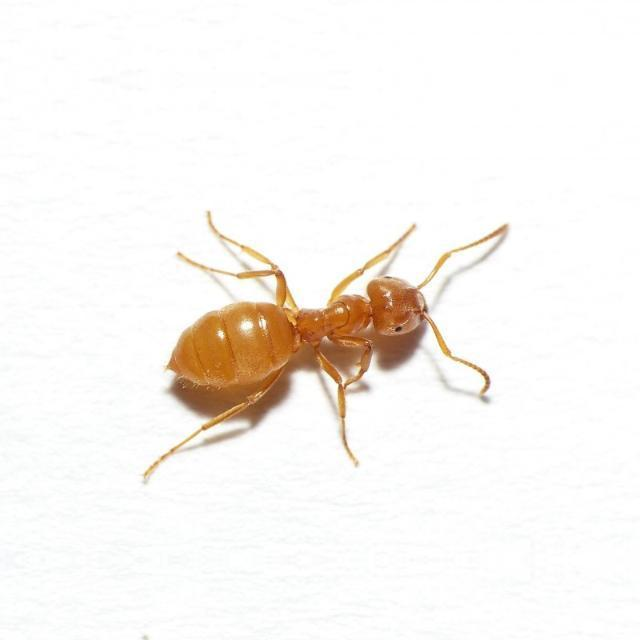Lasius: (162, 235, 470, 417)
